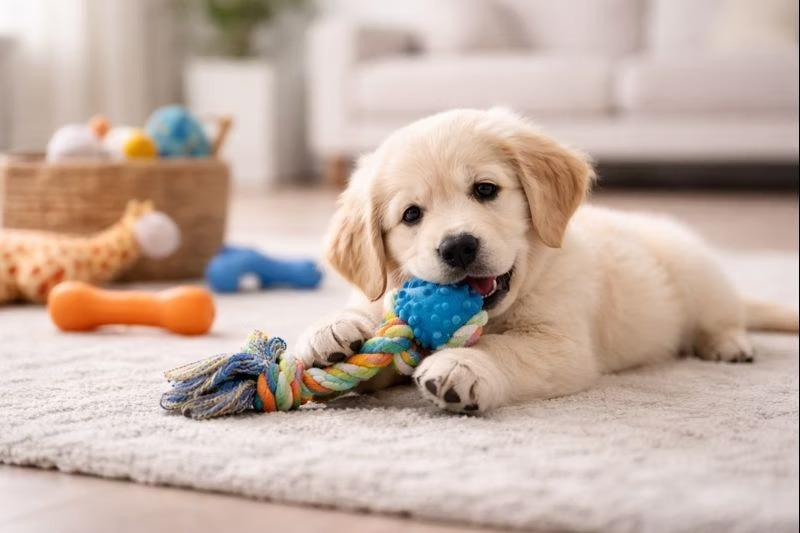puppy-dog: (292, 104, 799, 417)
